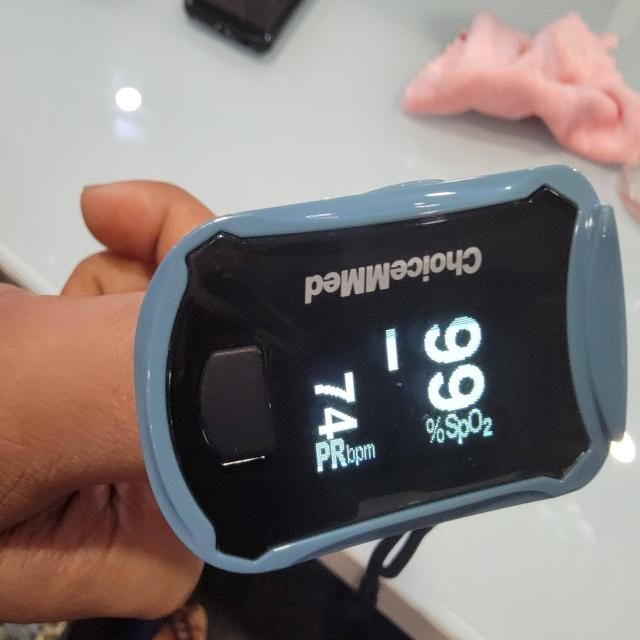spo2: (131, 168, 629, 578)
